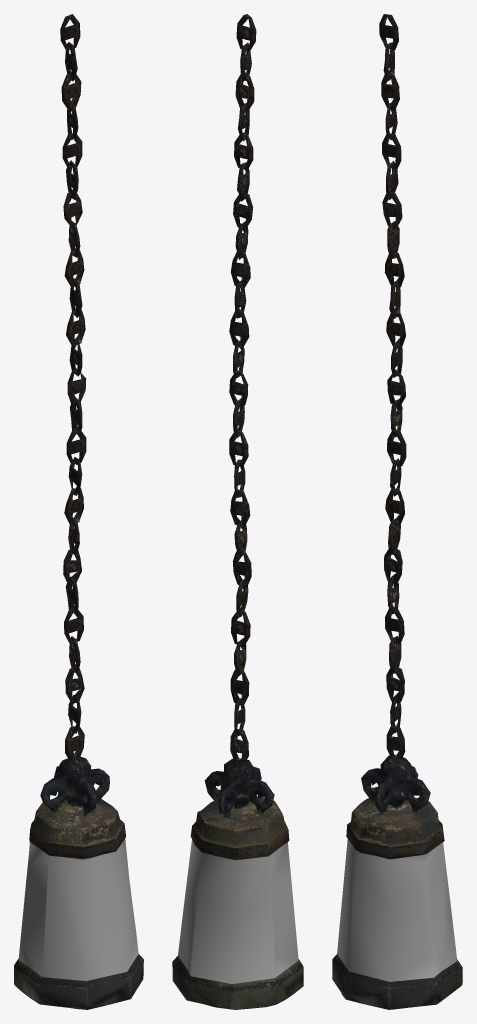
Rendered from SM_Skylight.fbx.
3 renders of one model, left to right at view 1: azimuth 30°, elevation 25°; view 2: azimuth 150°, elevation 25°; view 3: azimuth 330°, elevation 25°, orthographic.
Visible parts, largest first — view 1: SM_Skylight; view 2: SM_Skylight; view 3: SM_Skylight.
Boxes of the visible parts, x1,y1,x2,y2 form: SM_Skylight: (14, 14, 143, 1009); SM_Skylight: (172, 14, 303, 1009); SM_Skylight: (332, 14, 462, 1009).
Bounding box in the file's own units: 22.99 × 202 × 22.89.
